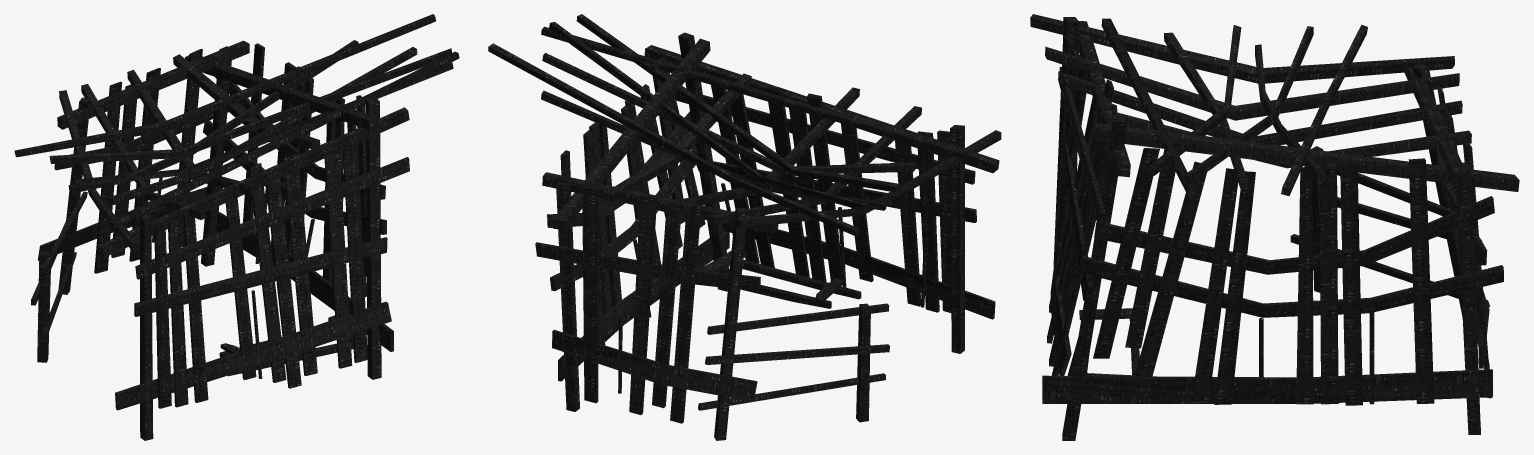
Rendered from 1_BURNT_01_7-transformed.glb.
3 views of the same model, side by side, from view 1: azimuth 30°, elevation 25°; view 2: azimuth 150°, elevation 25°; view 3: azimuth 270°, elevation 25° (orthographic). The views are drawn at different scales.
Visible parts, largest first — view 1: default; view 2: default; view 3: default.
Boxes of the visible parts, bbox=[...] form: default: bbox=[14, 14, 459, 440]; default: bbox=[488, 14, 1001, 440]; default: bbox=[1030, 14, 1519, 440].
Size of the model in its own units: 8.66 by 5.4 by 6.86.
1 material, 1 textured.
